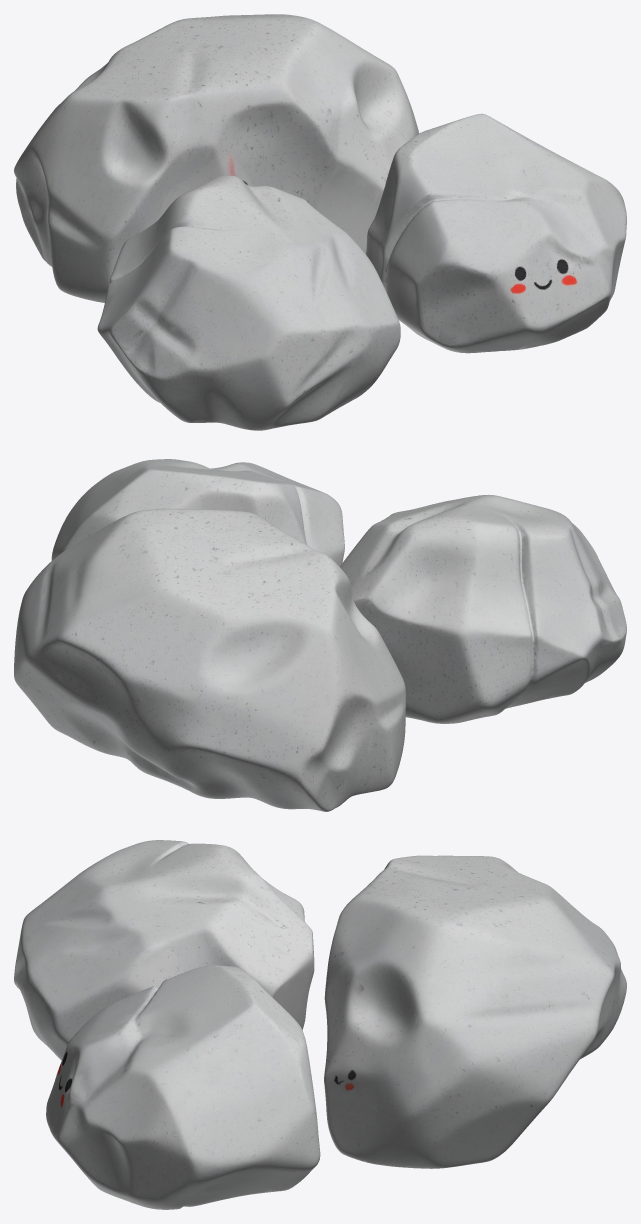
The model's file is stone1_final.glb.
3 views of the same model, one above another, from view 1: azimuth 30°, elevation 25°; view 2: azimuth 150°, elevation 25°; view 3: azimuth 270°, elevation 25° (orthographic). The views are drawn at different scales.
Bounding box in the file's own units: 1.9 × 0.7296 × 1.9.
1 material, 1 textured.
